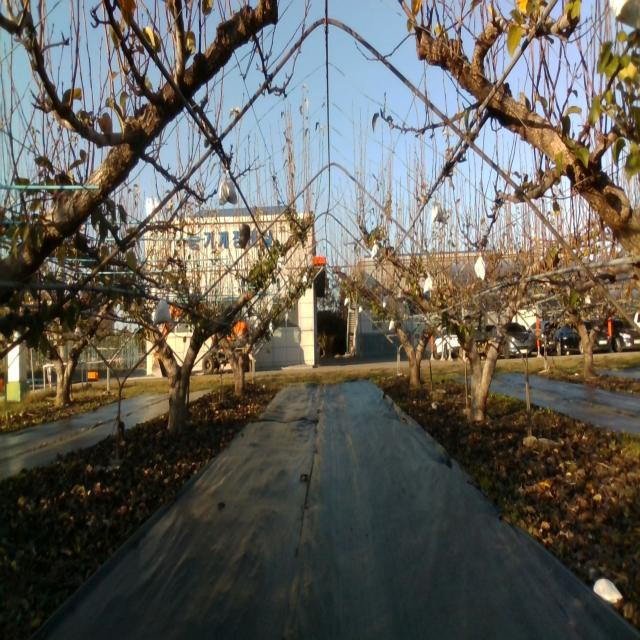pearbags: (218, 168, 237, 204), (151, 300, 172, 326), (474, 252, 486, 283), (432, 196, 444, 223), (423, 274, 433, 295)
